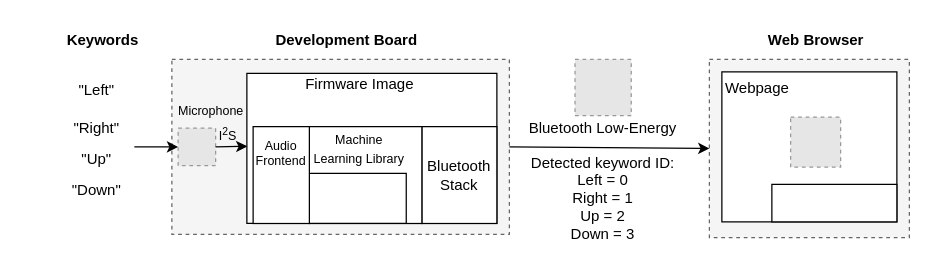
The diagram is 931 pixels wide and 270 high, and some of its shapes have lost their labels. Grey dashed boxes stand in for pictures. The shapes that lost their labels are listed below. From the top down, each one's box as (x1, y1, x2, y2) in pixels, then its label:
(308, 172, 406, 223): ML Model
(771, 183, 897, 222): Javascript
